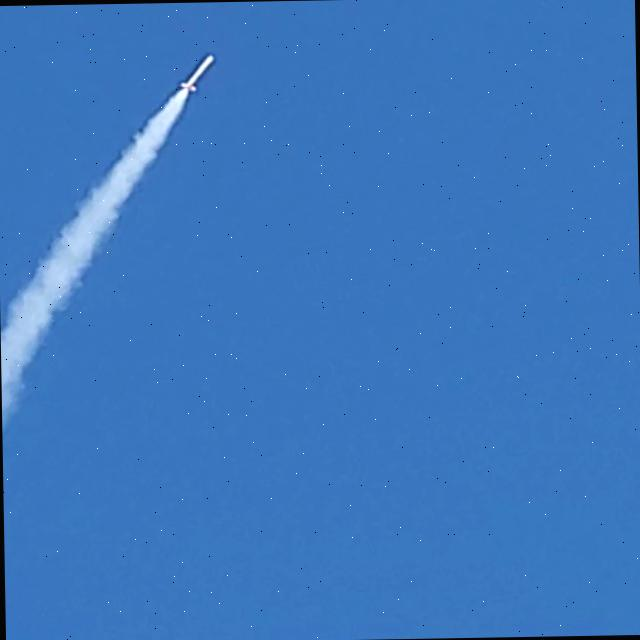rocket: (176, 54, 214, 95)
